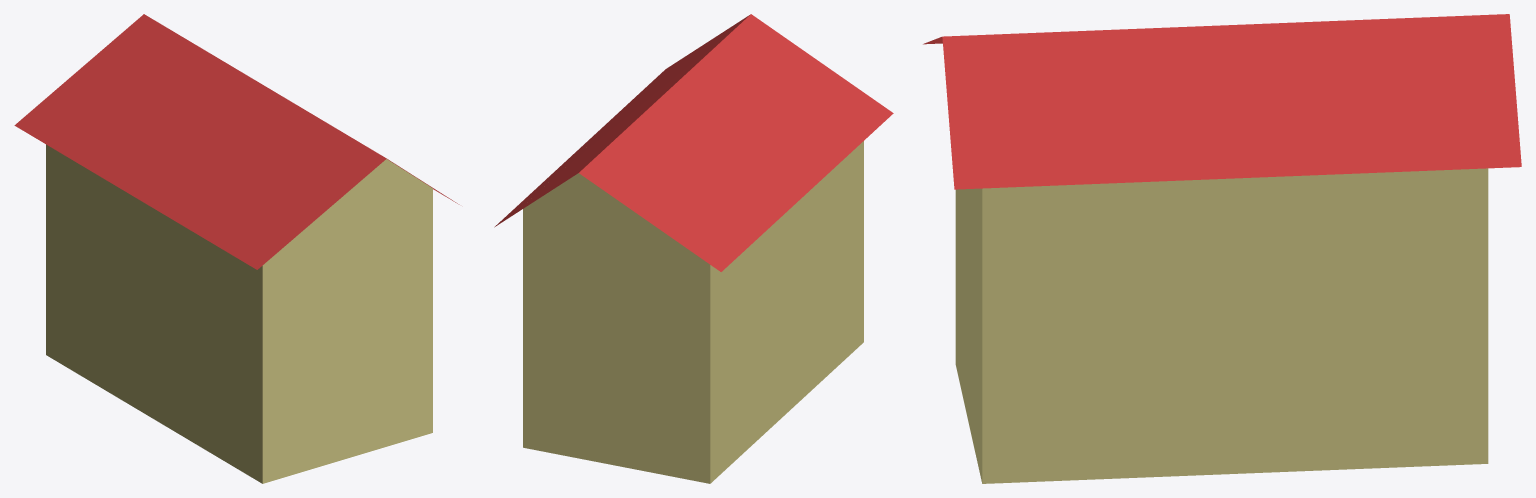
The picture shows the model from 3 angles, left to right: view 1: azimuth 30°, elevation 25°; view 2: azimuth 150°, elevation 25°; view 3: azimuth 270°, elevation 25°; orthographic projection. The views are drawn at different scales.
Bounding box in the file's own units: 6.46 × 9.75 × 7.31.
